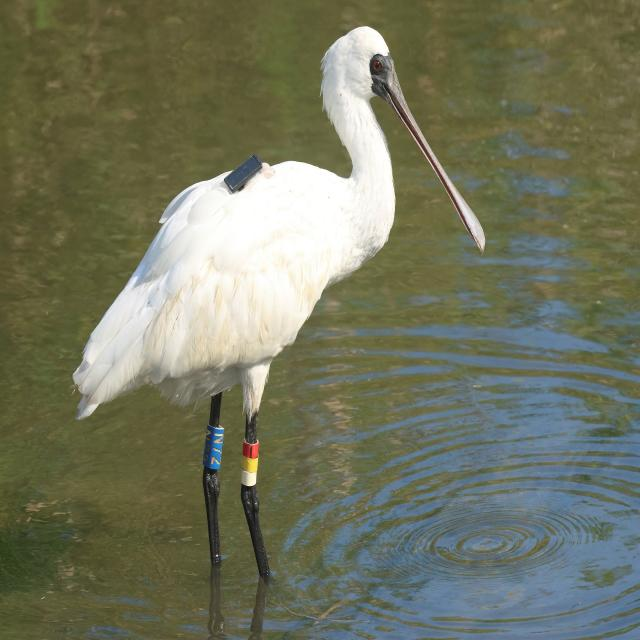Black-faced spoonbill: (74, 28, 484, 455)
